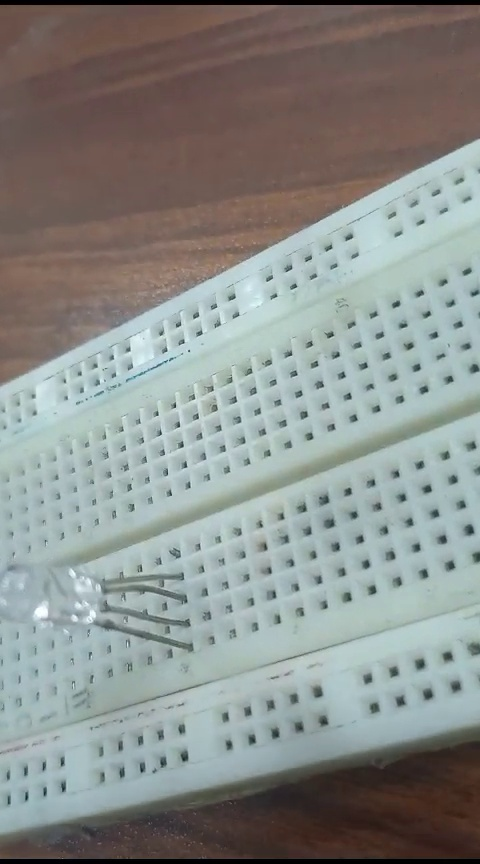LED: (3, 553, 191, 659)
